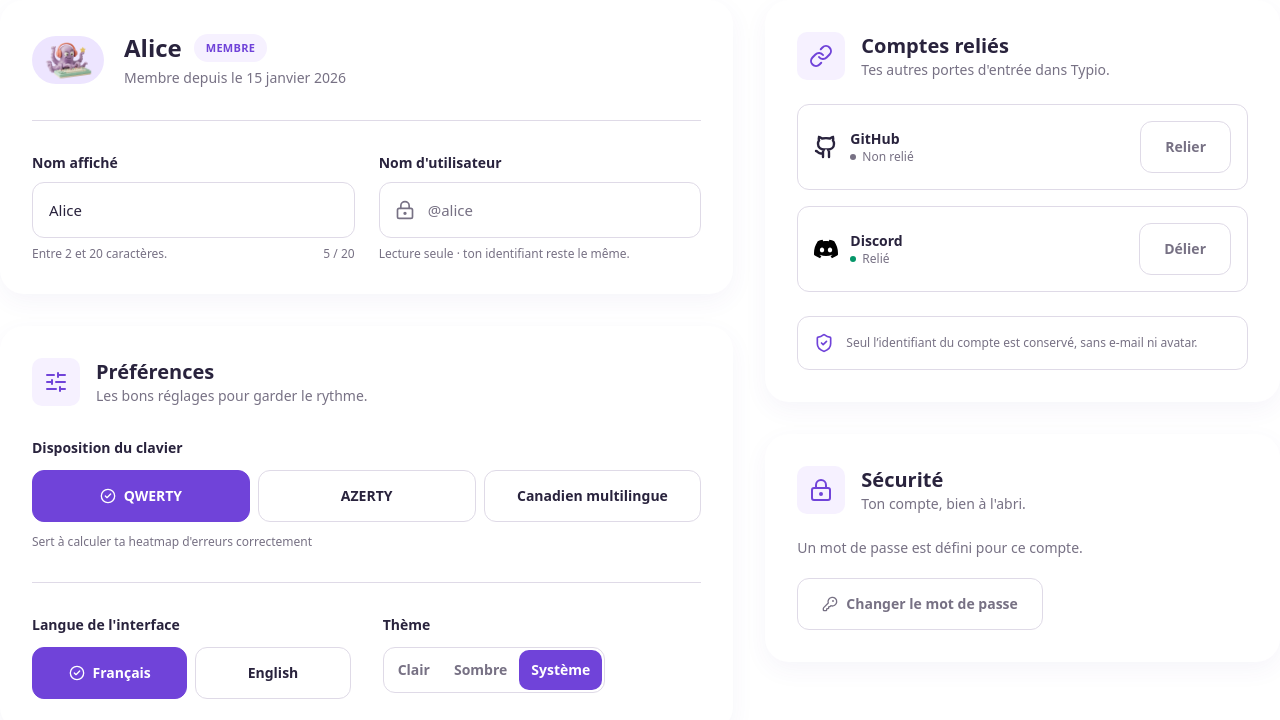
Test case: ProfileForm (fr) › affiche sur le champ l'erreur renvoyée par le serveur (nom déjà pris)
The width and height of the screenshot is (1280, 720).
Replace the text in the field labelled "Nom affiché" with "Bob" at (193, 210), box [32,182,355,238]
(page scrolled)
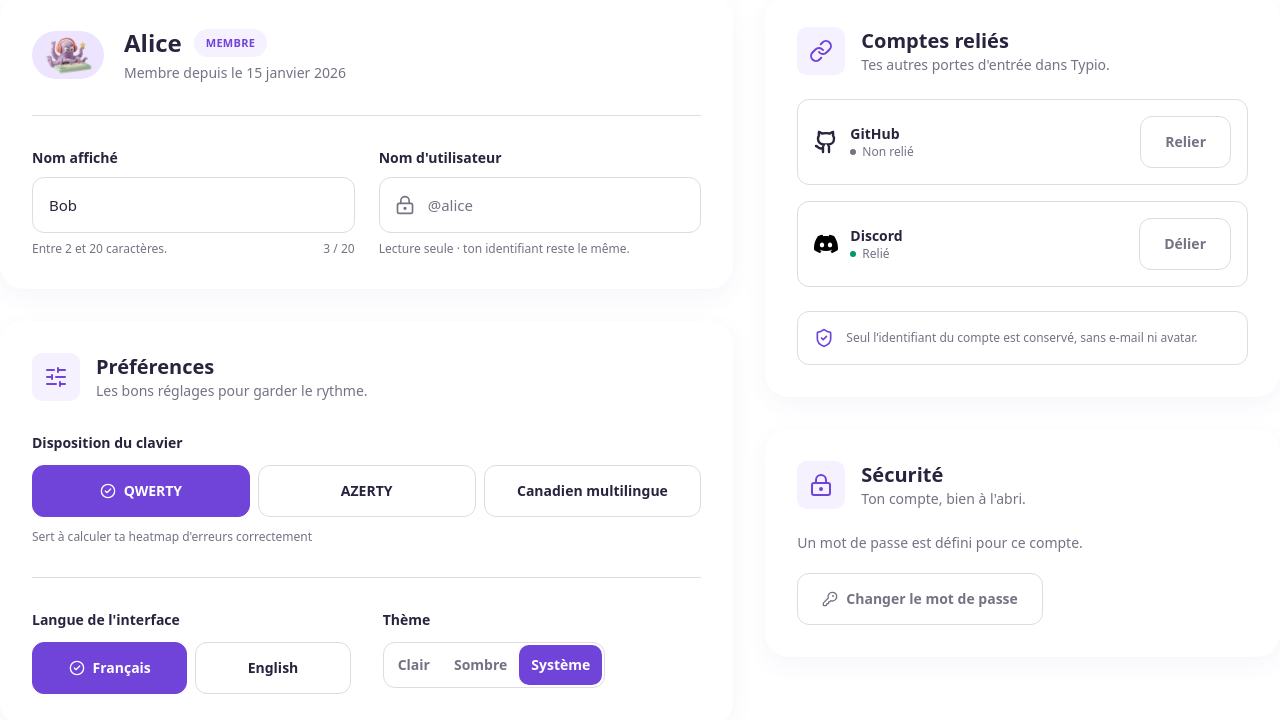
Submit the form "Nom affiché"
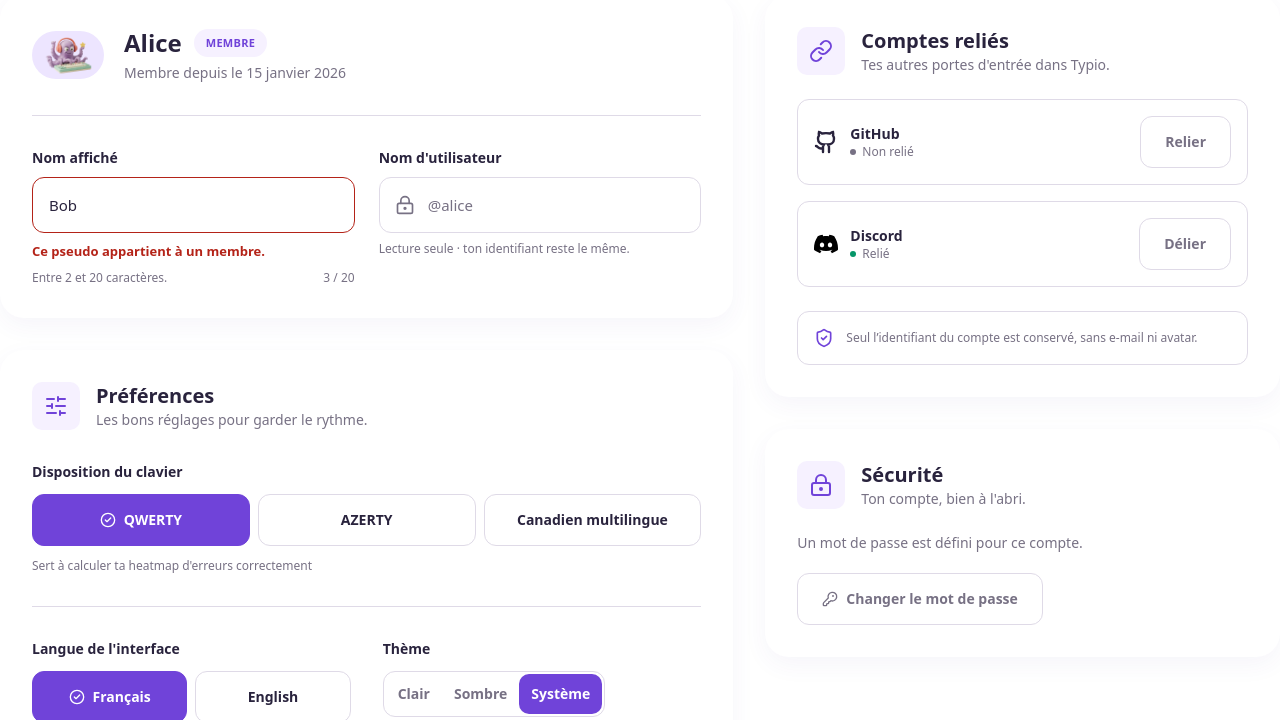
Result: the text "Ce pseudo appartient à un membre." is shown at [32,242,265,260]
